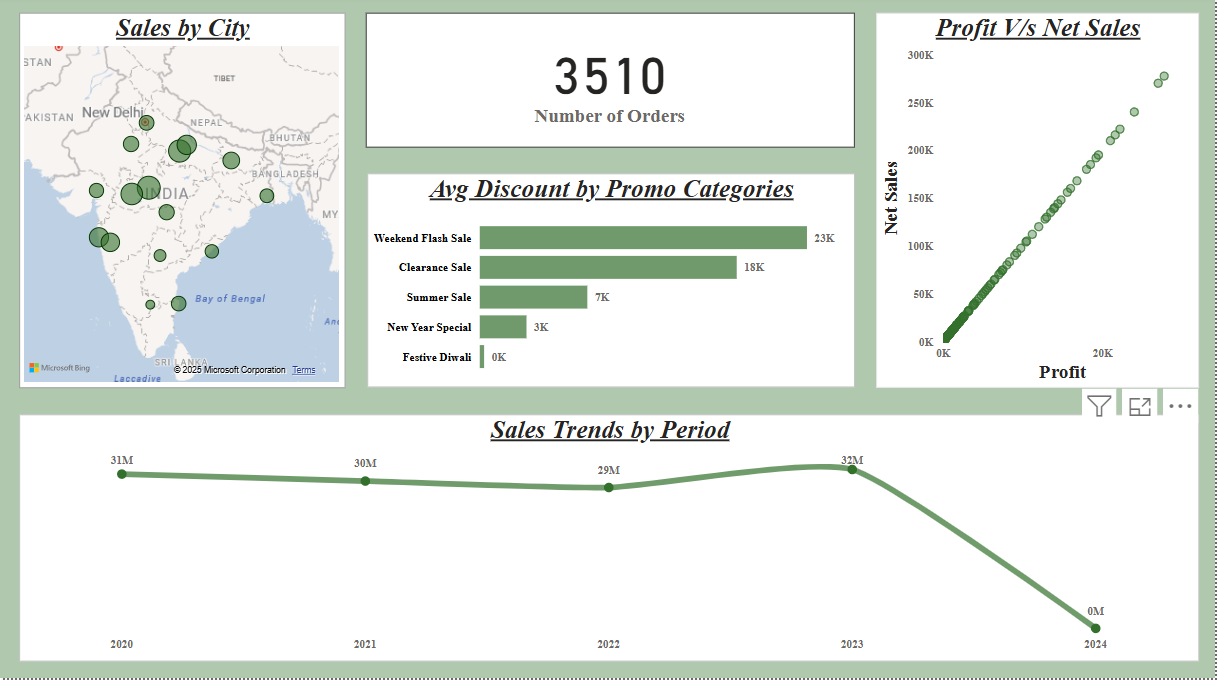

Layout of this report page (visuals, bound fields, positions):
{"tool":"powerbi","page":{"name":"Overview","canvas":[1280,720],"ordinal":0},"visuals":[{"type":"lineChart","title":"Sales Trends by Period","fields":{"Category":["Fact Table.Date (dd/mm/yyyy) Hierarchy.Quater","Fact Table.Date (dd/mm/yyyy) Hierarchy.Month","Fact Table.Date (dd/mm/yyyy) Hierarchy.Year","Fact Table.Date (dd/mm/yyyy) Hierarchy.DAY"],"Y":["Sum(Fact Table.Net Sales)"]},"box":[20,441.7,1243.3,260],"z":0},{"type":"scatterChart","title":"Profit V/s Net Sales","fields":{"X":["Fact Table.Profit"],"Y":["Fact Table.Net Sales"]},"box":[923.3,18.3,340,395],"z":1000},{"type":"map","title":"Sales by City","fields":{"Category":["Dim Customers.City"],"Size":["Sum(Fact Table.Total Sales)"]},"box":[20,18.3,343.3,395],"z":2000},{"type":"card","fields":{"Values":["CountNonNull(Fact Table.Order_id)"]},"box":[385,18.3,515,141.7],"z":3000},{"type":"barChart","title":"Avg Discount by Promo Categories","fields":{"Category":["Dim Promotion.Promotion Name"],"Y":["Avg(Fact Table.Discount Value  )"]},"box":[386.7,188.3,513.3,225],"z":4000}]}

Visuals, with their boxes in screenshot pixels (x1, y1, x2, y2), scaled from the page's 1280x720 canvas onto the 1217x680 screenshot:
"Sales Trends by Period" lineChart: left=19, top=417, right=1201, bottom=663
"Profit V/s Net Sales" scatterChart: left=878, top=17, right=1201, bottom=390
"Sales by City" map: left=19, top=17, right=345, bottom=390
card - CountNonNull(Fact Table.Order_id): left=366, top=17, right=856, bottom=151
"Avg Discount by Promo Categories" barChart: left=368, top=178, right=856, bottom=390
